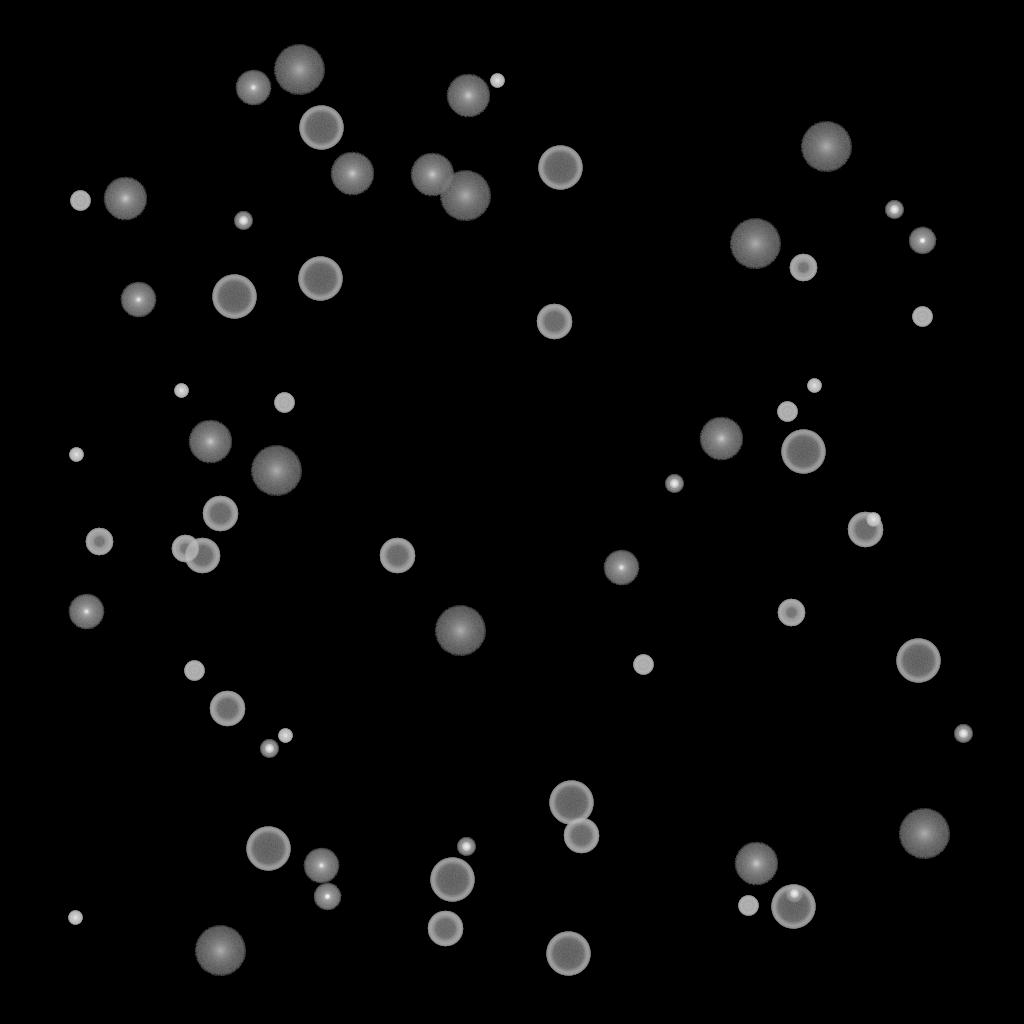depth:-10: (908, 227, 936, 255), (313, 883, 341, 911)
depth:-20: (954, 725, 972, 743), (260, 740, 278, 758), (885, 201, 903, 219), (457, 838, 475, 856), (785, 885, 803, 903), (234, 212, 252, 230), (665, 475, 683, 493)
depth:-30: (490, 74, 504, 88), (278, 729, 292, 743), (807, 379, 821, 393), (174, 384, 188, 398), (866, 513, 880, 527), (69, 448, 83, 462), (68, 911, 82, 925)
depth:-40: (274, 393, 294, 413), (184, 661, 204, 681), (70, 191, 90, 211), (633, 655, 653, 675), (738, 896, 758, 916), (912, 307, 932, 327), (777, 402, 797, 422)
depth:-50: (777, 599, 805, 627), (171, 535, 199, 563), (85, 528, 113, 556), (789, 254, 817, 282)
depth:-60: (847, 512, 883, 548), (563, 818, 599, 854), (184, 538, 220, 574), (536, 304, 572, 340), (202, 496, 238, 532), (379, 538, 415, 574), (427, 911, 463, 947), (209, 691, 245, 727)
depth:-70: (246, 827, 290, 871), (546, 932, 590, 976), (781, 430, 825, 474), (212, 275, 256, 319), (538, 146, 582, 190), (298, 257, 342, 301), (549, 781, 593, 825), (430, 858, 474, 902), (896, 639, 940, 683), (771, 885, 815, 929), (299, 106, 343, 150)
depth:0: (120, 282, 156, 318), (303, 848, 339, 884), (68, 594, 104, 630), (603, 550, 639, 586), (235, 70, 271, 106)
depth:10: (410, 153, 454, 197), (330, 152, 374, 196), (103, 177, 147, 221), (446, 74, 490, 118), (699, 417, 743, 461), (734, 842, 778, 886), (188, 420, 232, 464)
depth:20: (898, 809, 950, 859), (194, 926, 246, 976), (434, 606, 486, 656), (729, 219, 781, 269), (250, 446, 302, 496), (800, 122, 852, 172), (439, 171, 491, 221), (273, 45, 325, 95)
